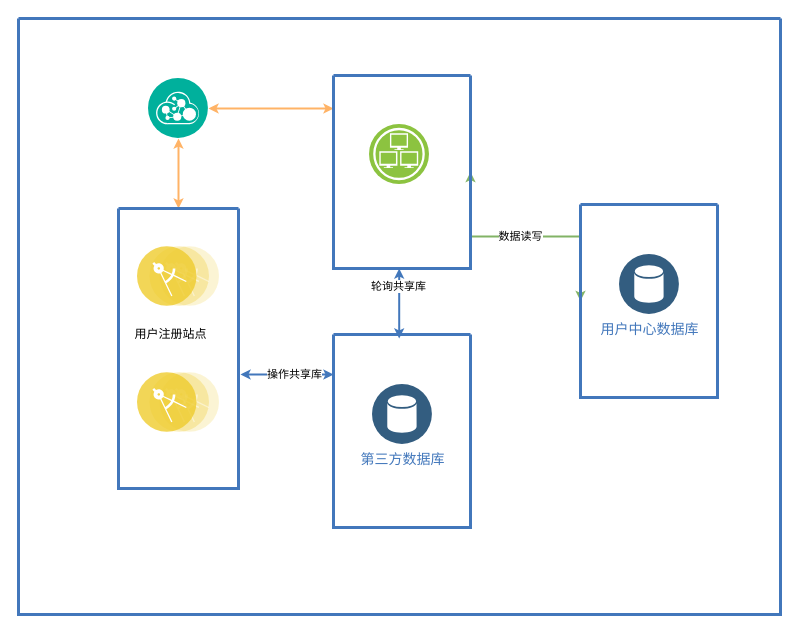
Image size: 799x633. Some labels were removed from this diagram. Each missing label, with the centre of its shape:
"用户中心" goes at point 399,154.
"用户中心服务" goes at point 178,108.
